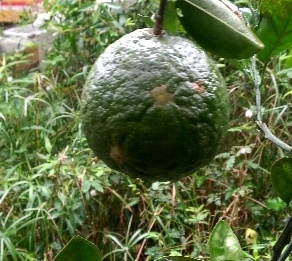Cam: (77, 25, 233, 180)
